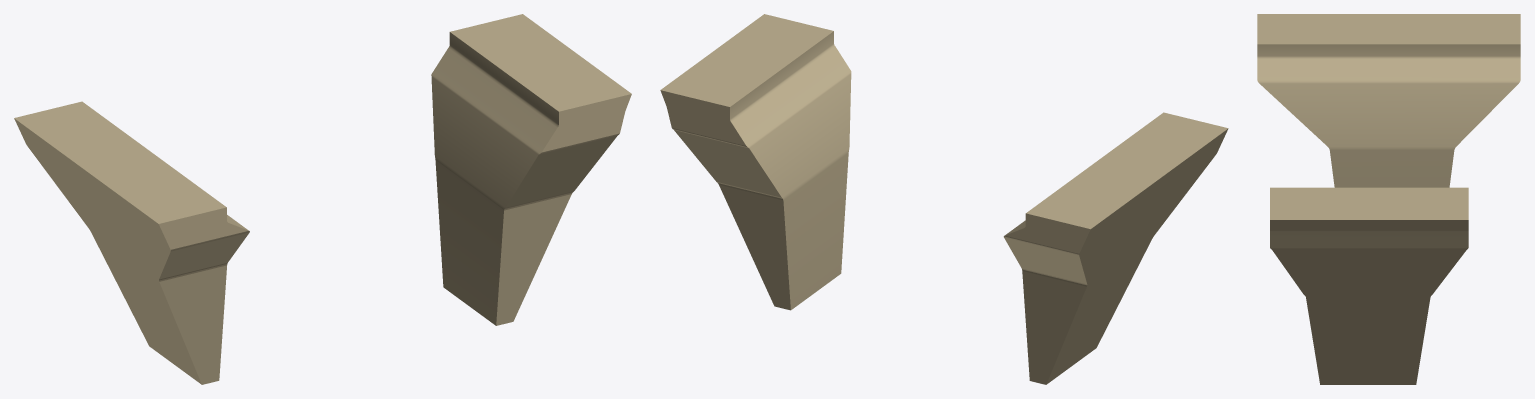
The model's file is youxiang_bu.fbx.
3 renders of one model, left to right at view 1: azimuth 30°, elevation 25°; view 2: azimuth 150°, elevation 25°; view 3: azimuth 270°, elevation 25°, orthographic. The views are drawn at different scales.
Parts seen in each view (by area): view 1: Rectangle1745; view 2: Rectangle1745; view 3: Rectangle1745.
Part boxes in pixels (x1,y1,x2,y2): Rectangle1745: [14, 14, 631, 384]; Rectangle1745: [660, 14, 1228, 384]; Rectangle1745: [1257, 14, 1520, 384].
Bounding box in the file's own units: 248 × 112 × 130.
